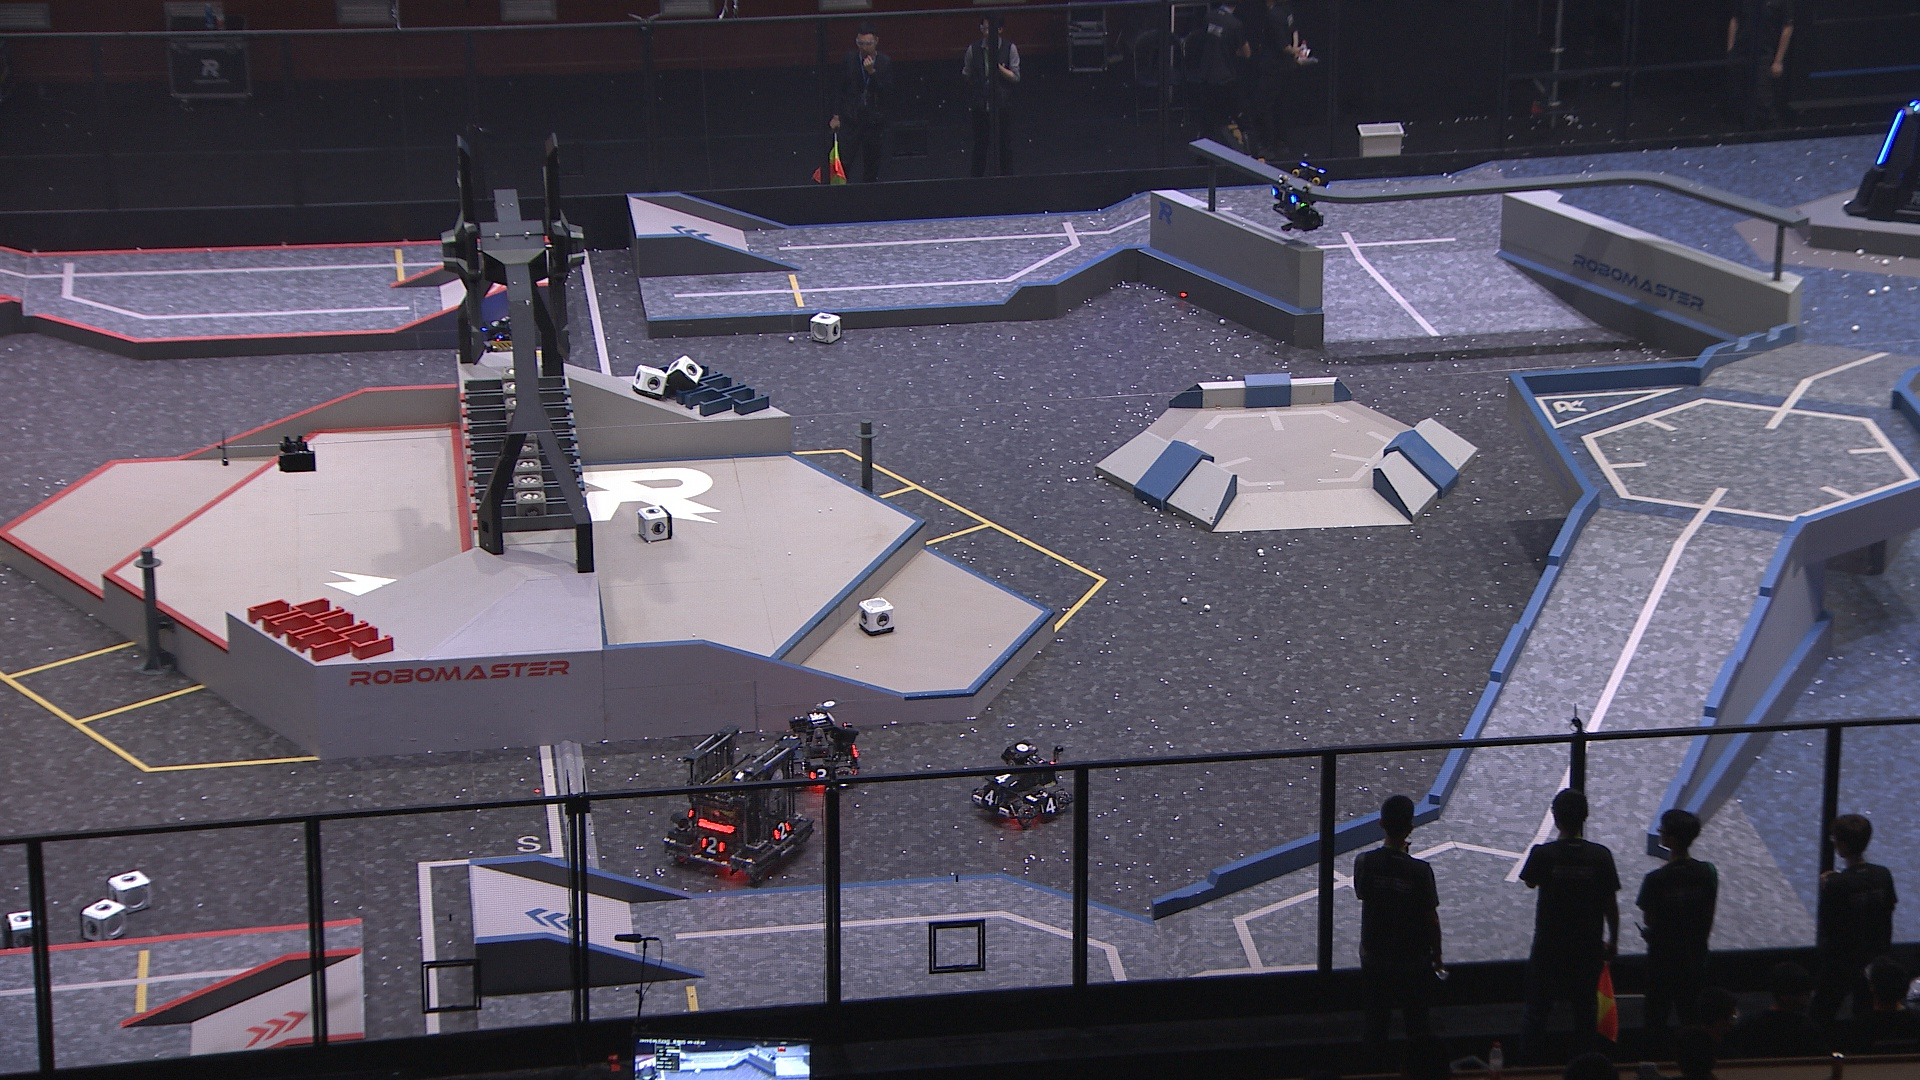armor: (1871, 105, 1907, 171), (1036, 790, 1063, 818), (989, 769, 1021, 790), (769, 818, 793, 844), (1271, 183, 1299, 206), (978, 785, 1002, 808), (699, 835, 727, 855), (808, 766, 832, 782)
base: (1841, 96, 1920, 229)
car: (655, 725, 822, 880), (967, 737, 1081, 827), (770, 698, 866, 793), (469, 314, 566, 384)
watcher: (1269, 149, 1332, 235)
